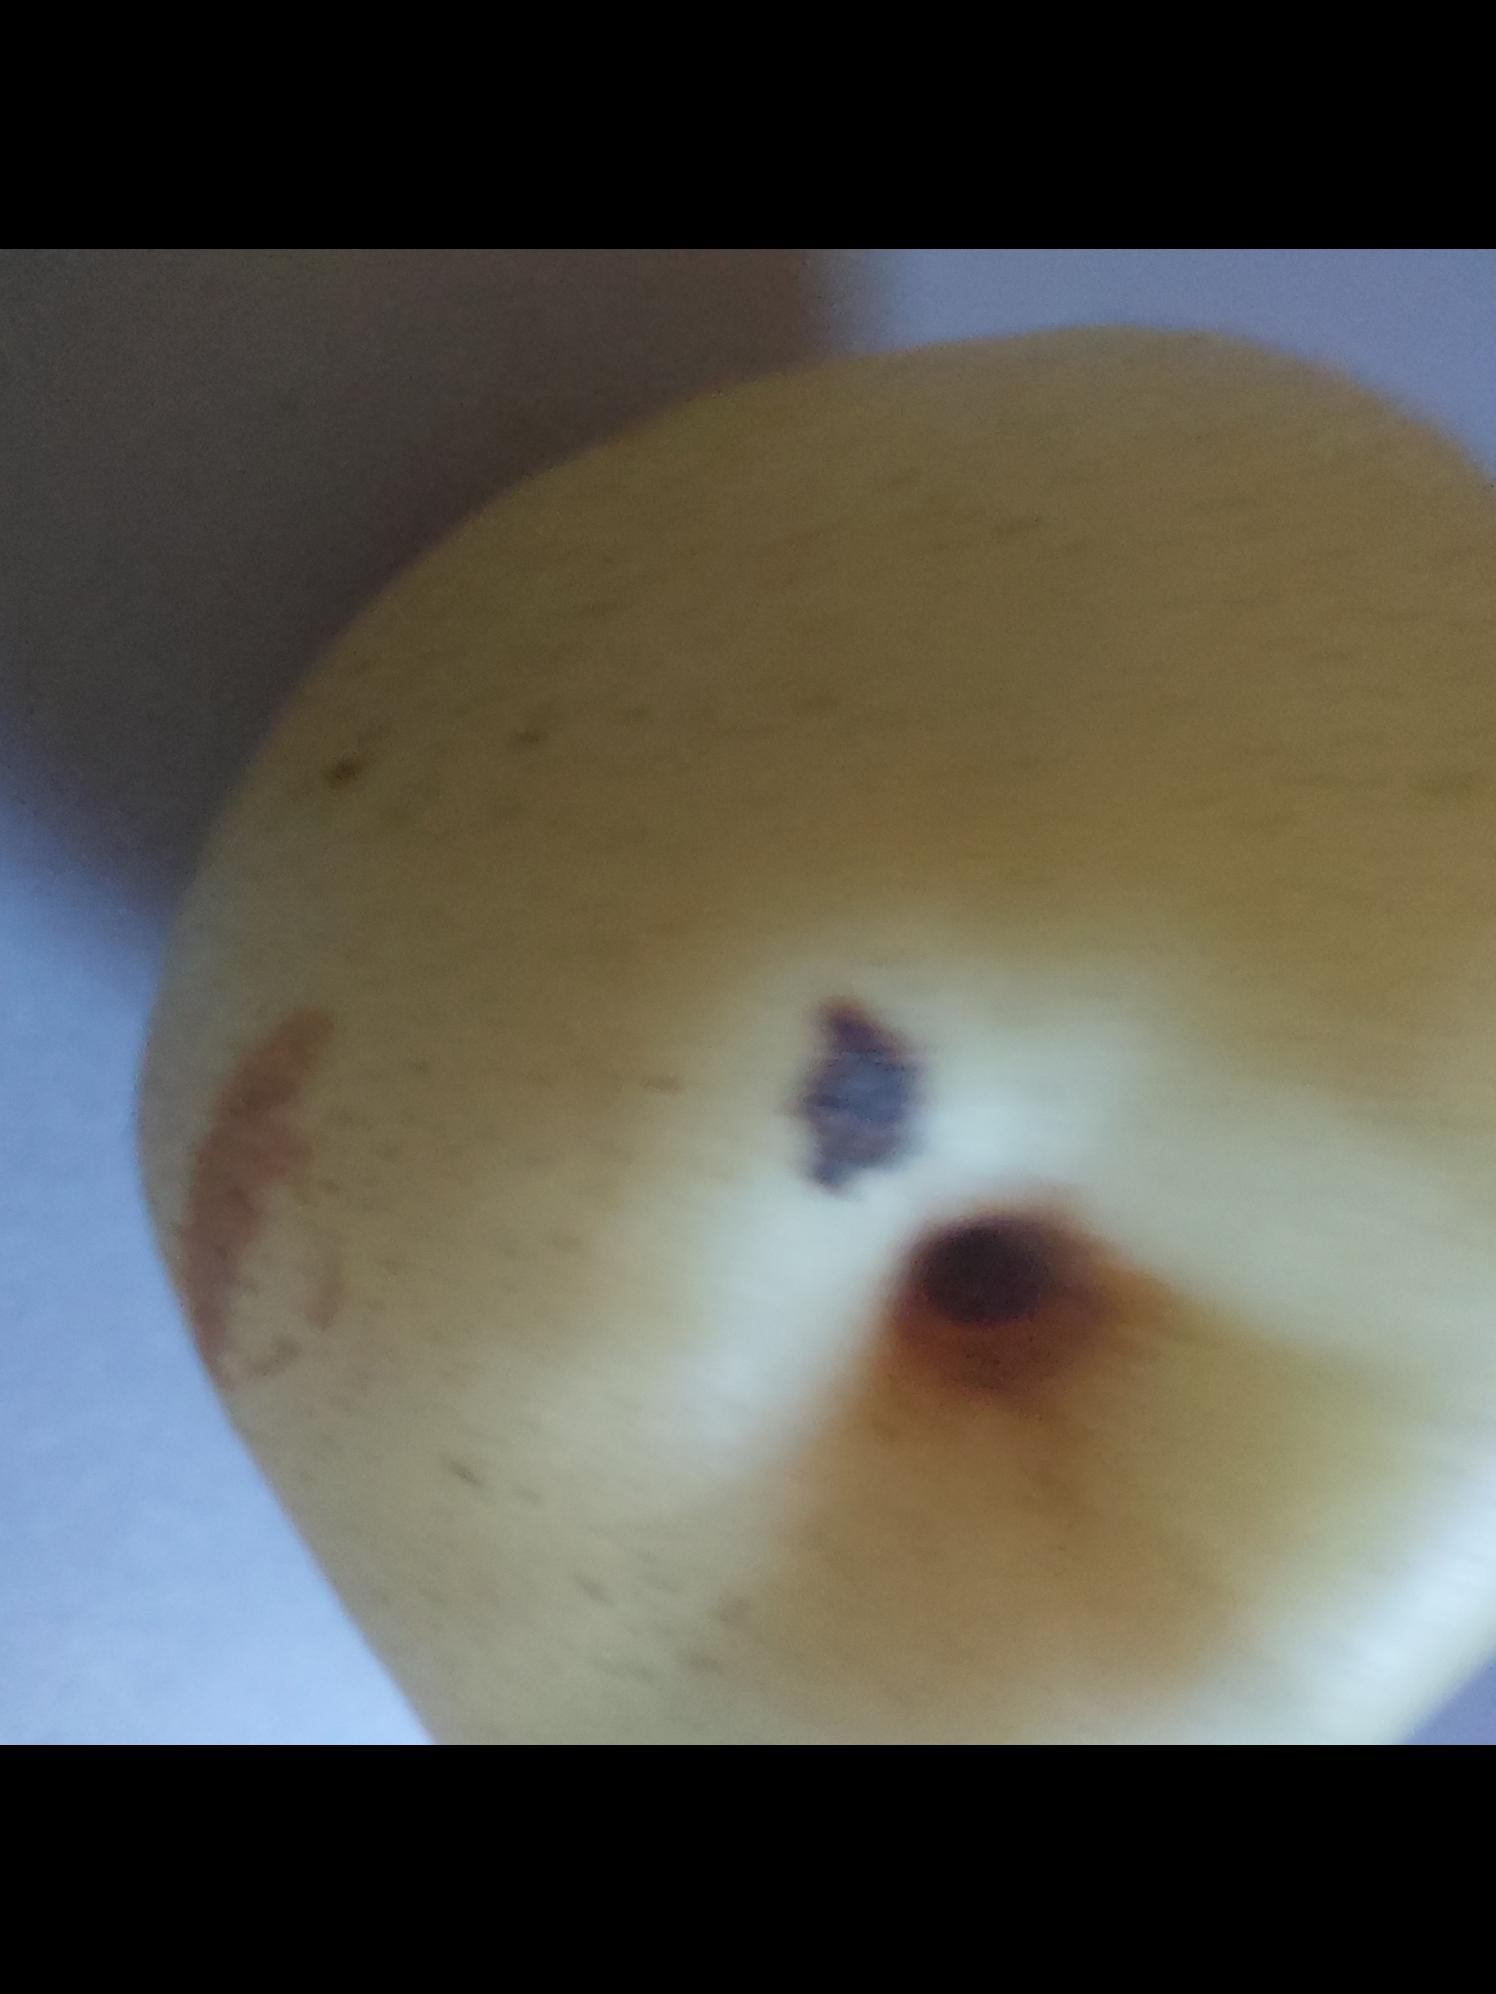Good Pear: (108, 300, 1496, 1746)
